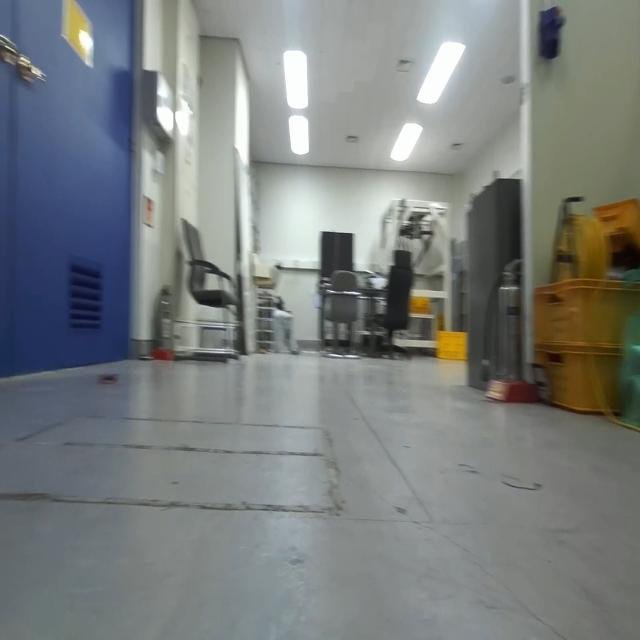crazyflie: (96, 367, 122, 391)
